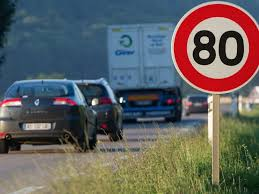Speed_limit_80km: (170, 2, 259, 95)
